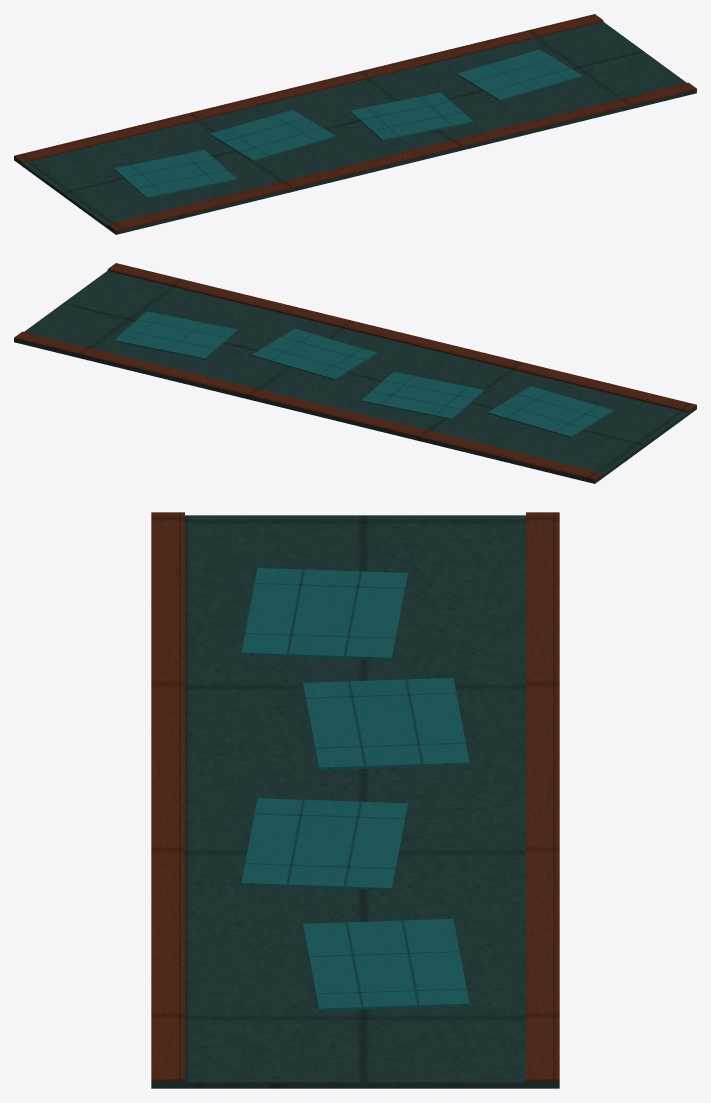
File: canal-segment-wet.e9.glb
3 renders of one model, top to bottom at view 1: azimuth 30°, elevation 25°; view 2: azimuth 150°, elevation 25°; view 3: azimuth 270°, elevation 25°, orthographic. The views are drawn at different scales.
Visible parts, largest first — view 1: CanalSegmentWetE9; view 2: CanalSegmentWetE9; view 3: CanalSegmentWetE9.
Part boxes in pixels (bbox=[...]): CanalSegmentWetE9: bbox=[14, 14, 696, 234]; CanalSegmentWetE9: bbox=[14, 263, 696, 483]; CanalSegmentWetE9: bbox=[151, 512, 559, 1088].
Bounding box in the file's own units: 4.8 × 0.036 × 1.46.
1 material, 1 textured.
